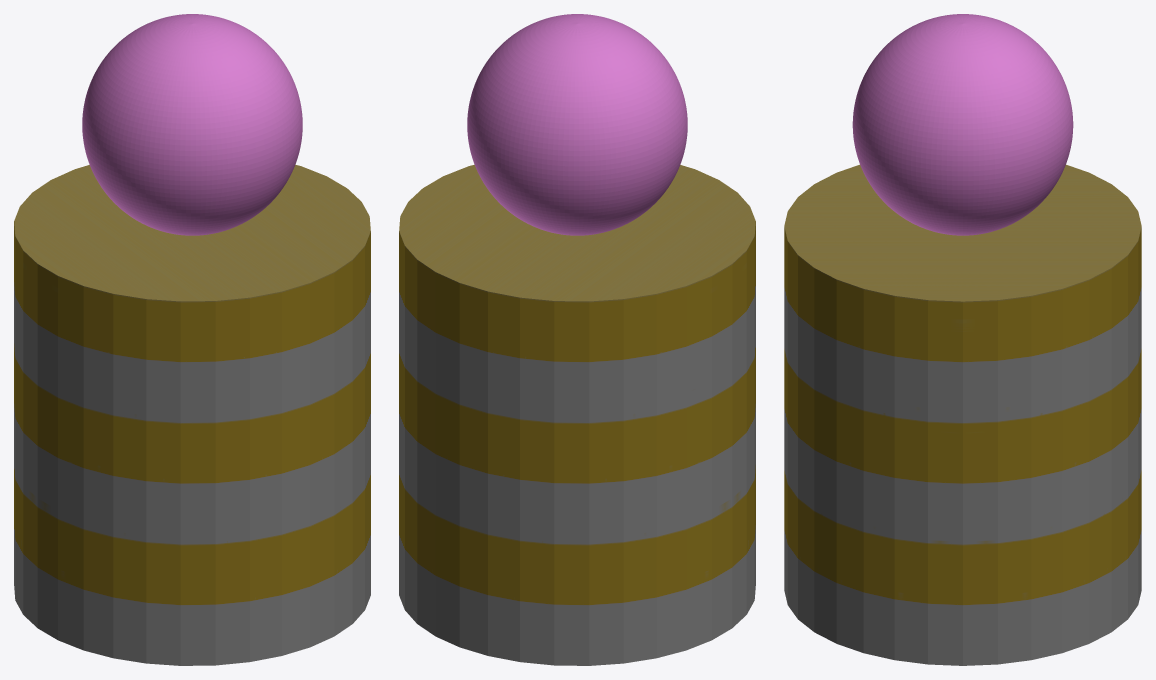
Rendered from BOD5_BMC4_BCC0_BPT2_FRC0_HEA0_HMC10_HCC0_HPT0_ELT0_ERT0_ELL0_ERL0_AP0_AAL0_AAR0_BEK0.fbx.
3 views of the same model, side by side, from view 1: azimuth 30°, elevation 25°; view 2: azimuth 150°, elevation 25°; view 3: azimuth 270°, elevation 25° (orthographic).
Visible parts, largest first — view 1: Body, Head; view 2: Body, Head; view 3: Body, Head.
Part boxes in pixels (x1,y1,x2,y2): Body: [14, 164, 370, 665]; Head: [82, 14, 302, 235]; Body: [399, 164, 755, 665]; Head: [467, 14, 687, 235]; Body: [784, 164, 1141, 665]; Head: [852, 14, 1073, 235].
Size of the model in its own units: 80 by 140 by 80.
Materials: 2 (2 with a texture image).
